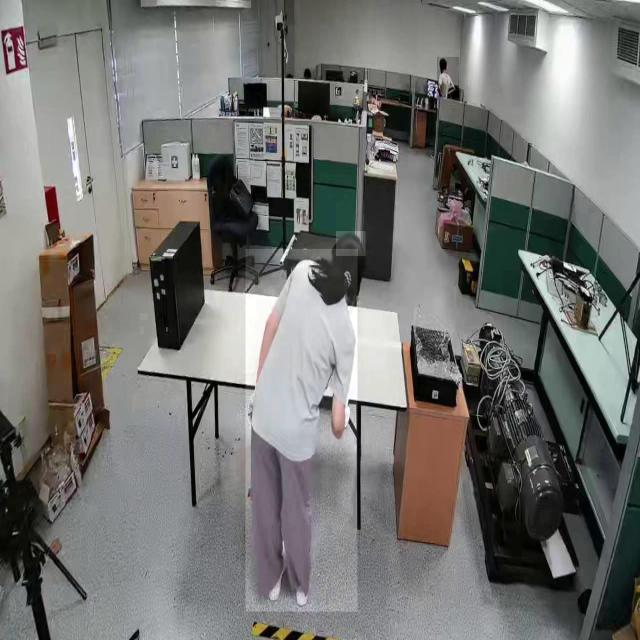head_nohelmet: (336, 231, 366, 257), (439, 57, 447, 64)
person: (246, 249, 358, 612), (437, 57, 459, 99)
shoes: (264, 534, 290, 602), (292, 550, 315, 612)
